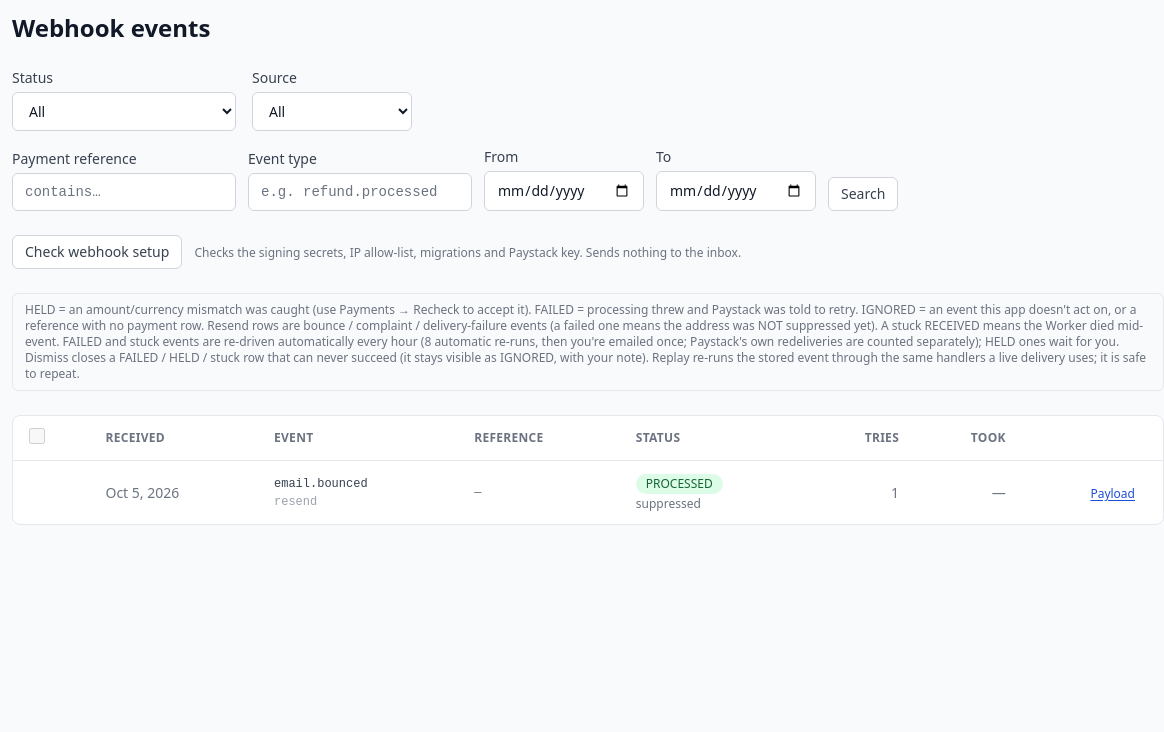
it: AdminWebhooks — round 25 › still shows a stored payload as JSON
Click the button "Payload" at point(1113, 494), box [1090,486,1135,502]
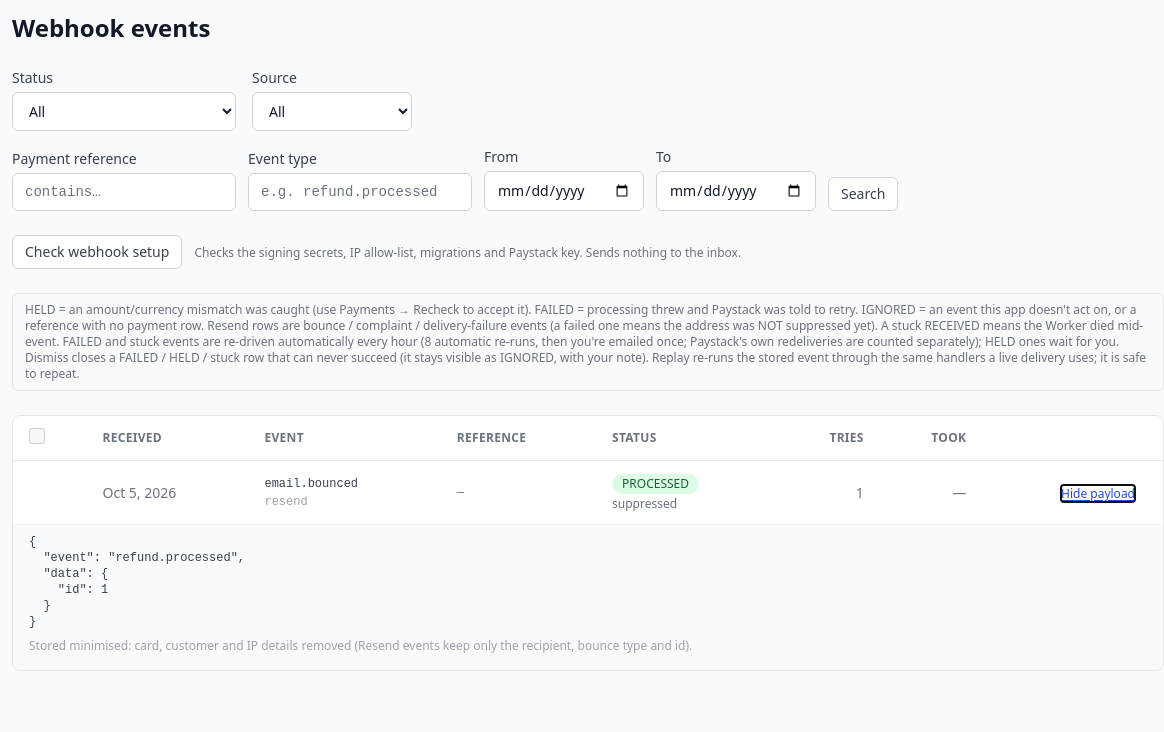
Now the text "{ \"event\": \"refund.processed\", \"data\": { \"id\": 1 } }" is shown, box [29,535,245,629]
